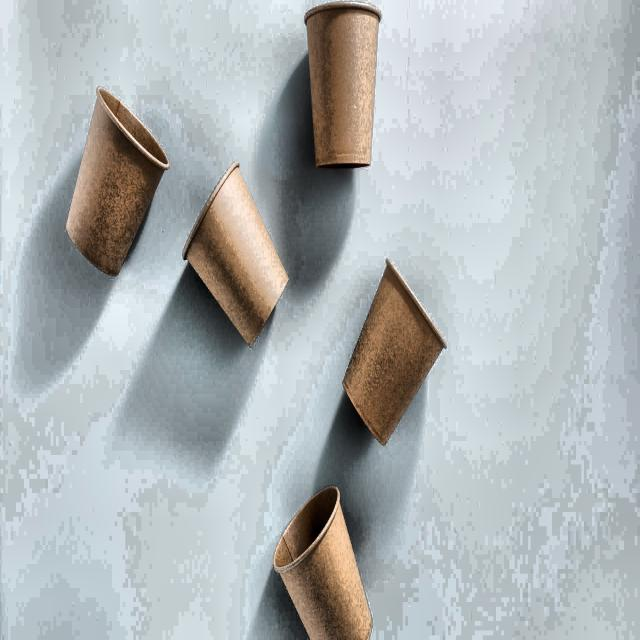Cup: (179, 142, 287, 366), (343, 246, 448, 464), (64, 86, 168, 302), (300, 0, 393, 186), (269, 474, 373, 640)
